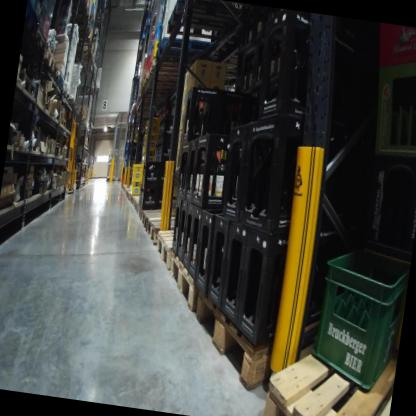pallet: (185, 270, 354, 394), (260, 281, 405, 416), (163, 0, 253, 50), (161, 243, 206, 319), (152, 224, 199, 285), (142, 213, 190, 267), (141, 55, 197, 96), (153, 34, 216, 66), (139, 199, 181, 241), (58, 14, 90, 36), (32, 47, 56, 74), (67, 42, 95, 65), (43, 52, 64, 82), (70, 58, 98, 78), (33, 25, 50, 53), (54, 68, 67, 94), (66, 8, 89, 22), (57, 82, 72, 102), (71, 34, 94, 46), (58, 0, 86, 9), (137, 202, 146, 225), (132, 198, 141, 214), (103, 174, 117, 184), (130, 193, 139, 207), (59, 115, 68, 126)
